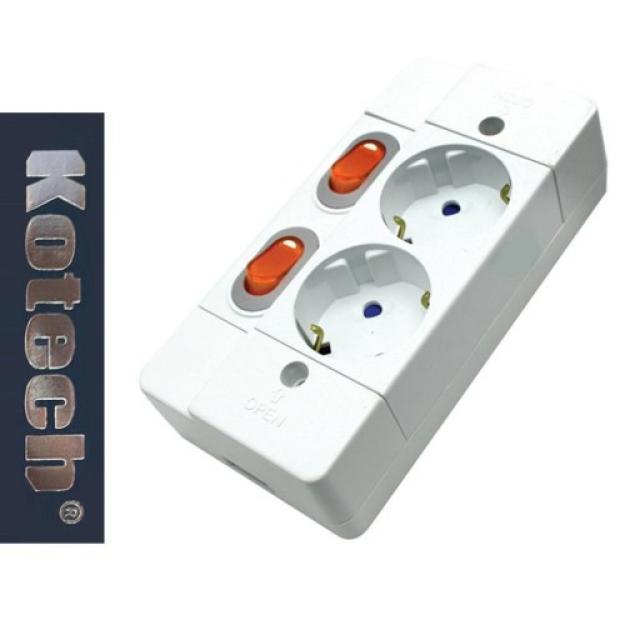typeb: (153, 64, 598, 527)
